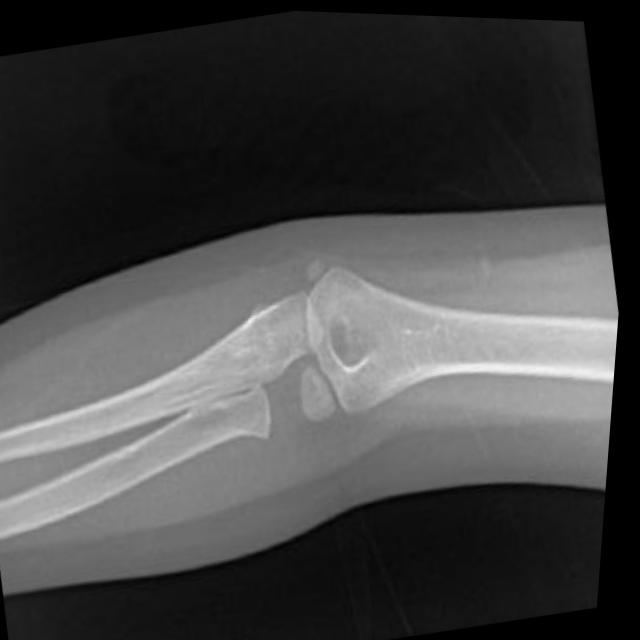fracture: (241, 340, 362, 452)
